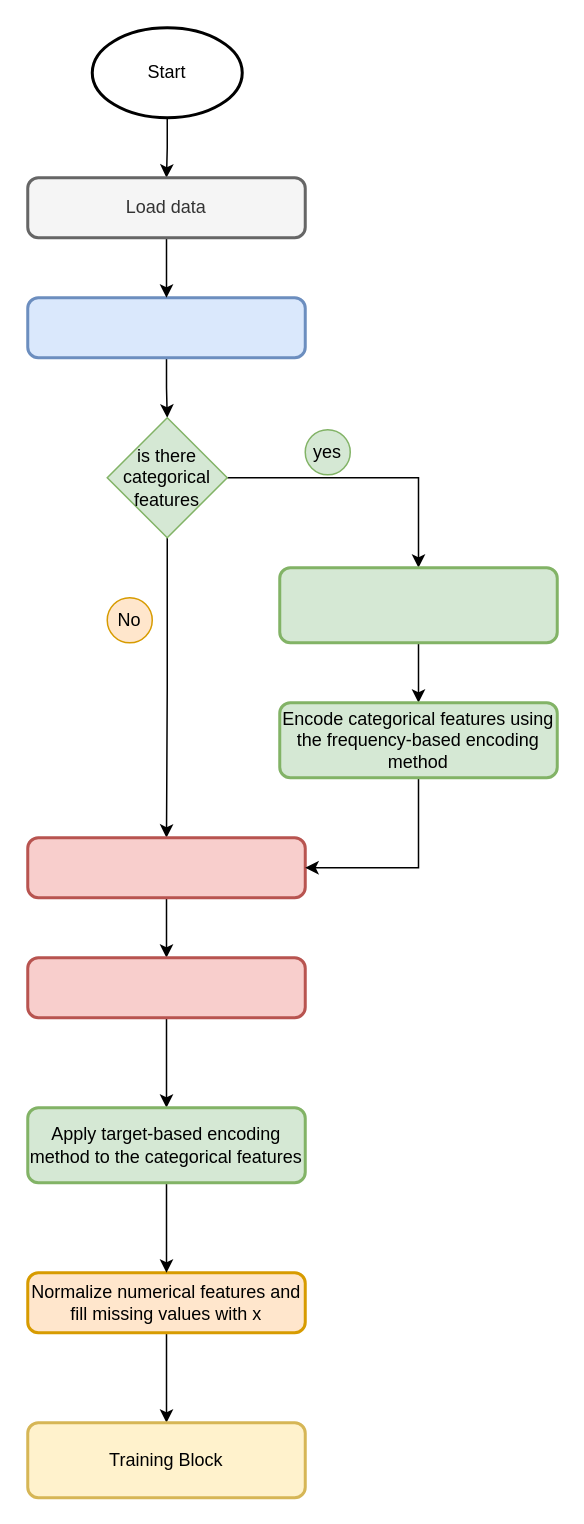
Image size: 584x1524. Some labels were removed from this diagram. The shapes that lost their labels are listed below. From the top down, each one's centre as x and y in pixels, then its label:
At (166,327): "Split data to numerical and categorical features".
At (418,605): "Encode categorical features and fill missing values with a random number".
At (166,867): "Delete columns that have constant values in all rows".
At (166,987): "Delete high correlated columns and keep only one column".
